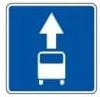road_sign: (5, 2, 97, 94)
